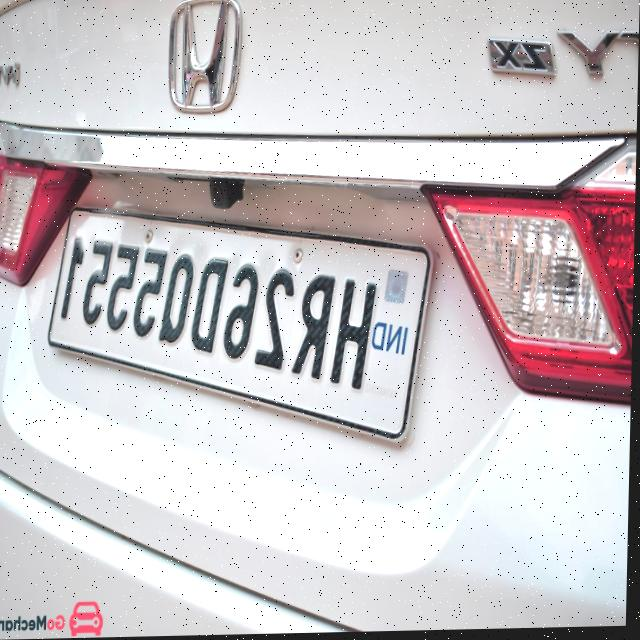plate: (39, 191, 446, 468)
